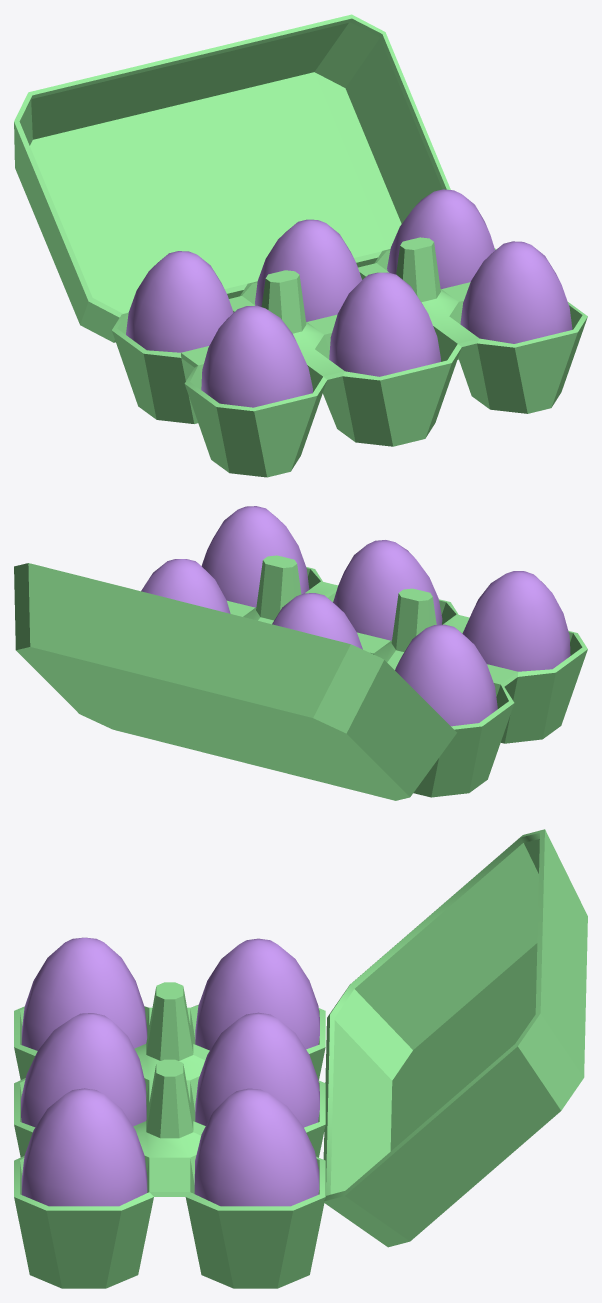
The model's file is oeufs.FBX.
3 renders of one model, top to bottom at view 1: azimuth 30°, elevation 25°; view 2: azimuth 150°, elevation 25°; view 3: azimuth 270°, elevation 25°, orthographic. The views are drawn at different scales.
Parts seen in each view (by area): view 1: oeufs; view 2: oeufs; view 3: oeufs.
Part boxes in pixels (box(x1,y1,x2,y2)): oeufs: box(14, 14, 587, 477); oeufs: box(14, 506, 587, 800); oeufs: box(14, 829, 587, 1288).
Size of the model in its own units: 1.78 by 1.06 by 2.02.
